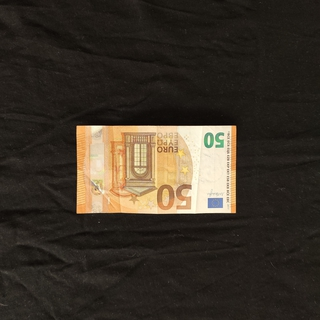50EUROFront: (75, 124, 237, 214)
